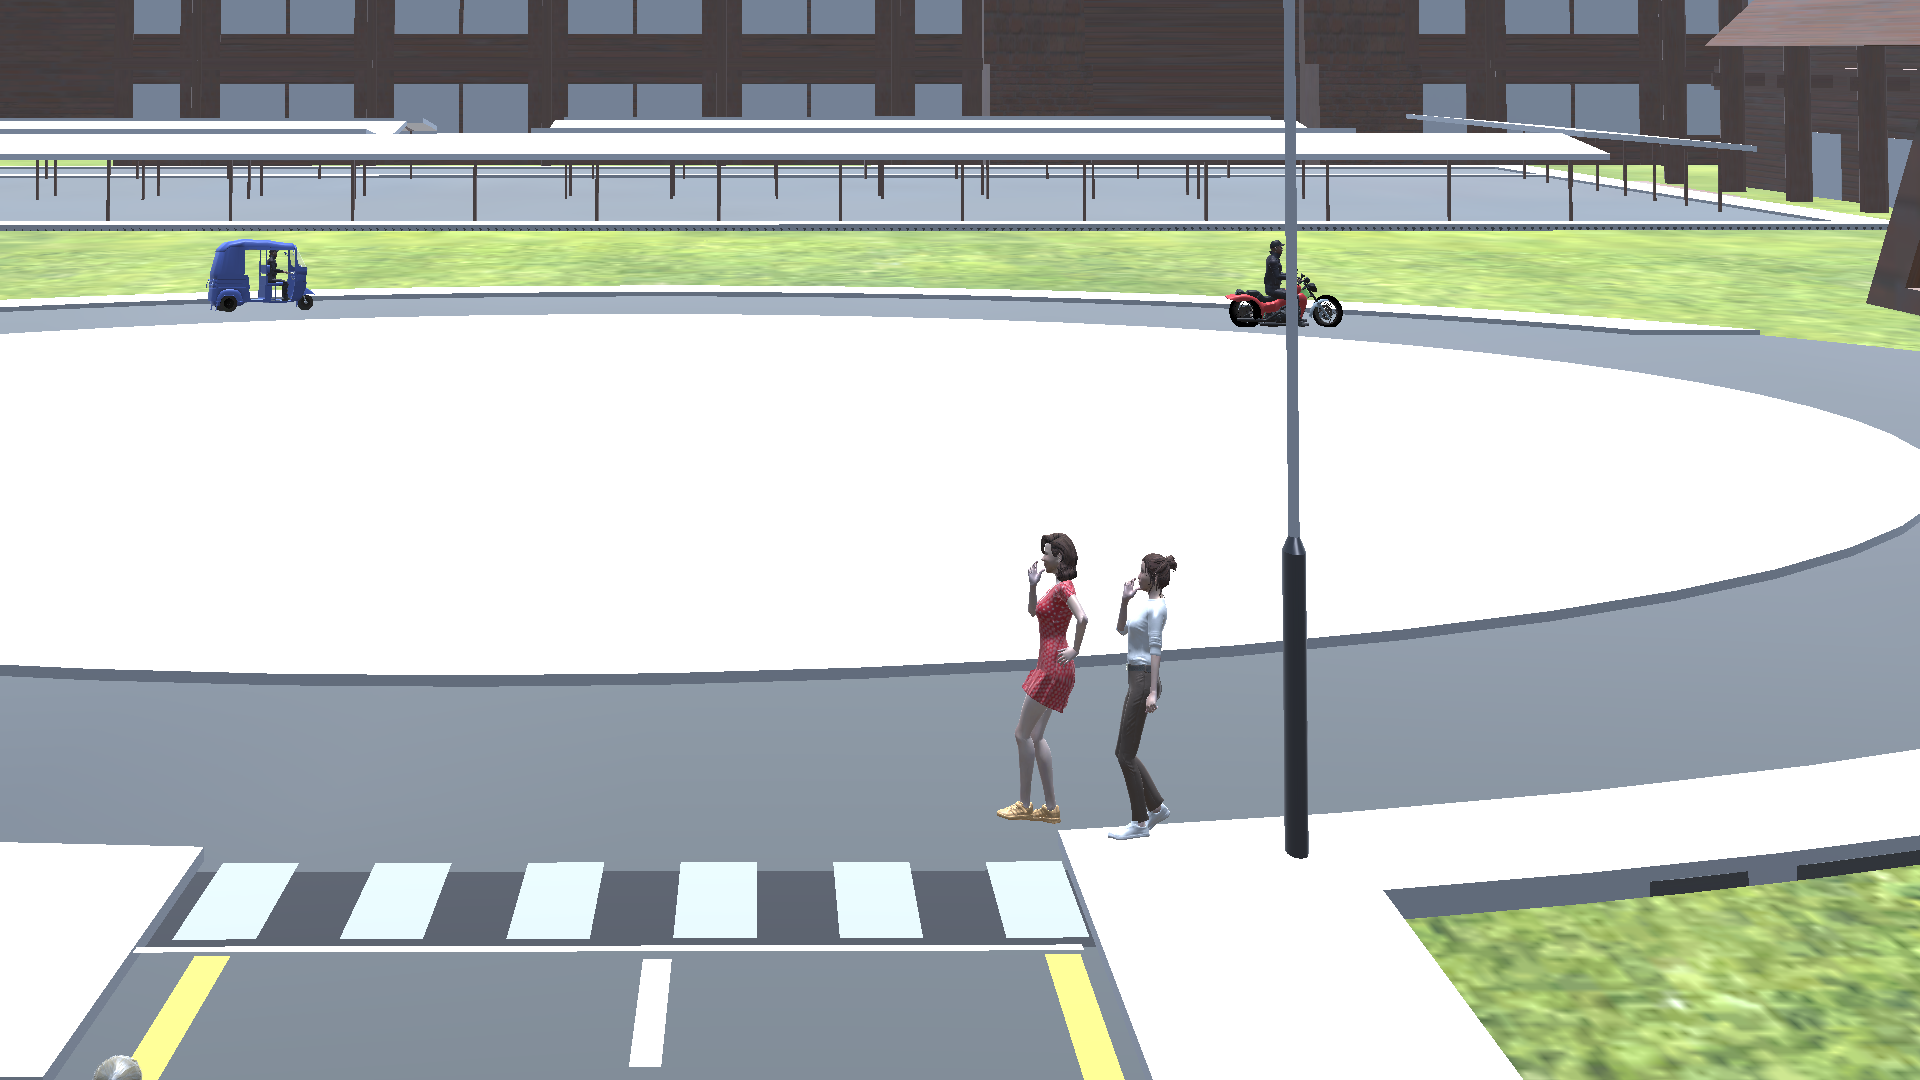pedestrian: (997, 526, 1079, 829), (1108, 543, 1184, 853)
